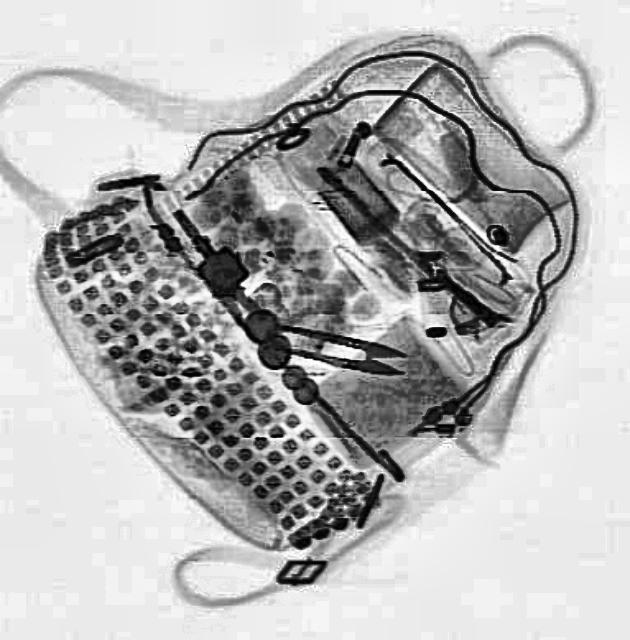Scissors: (264, 319, 408, 376)
